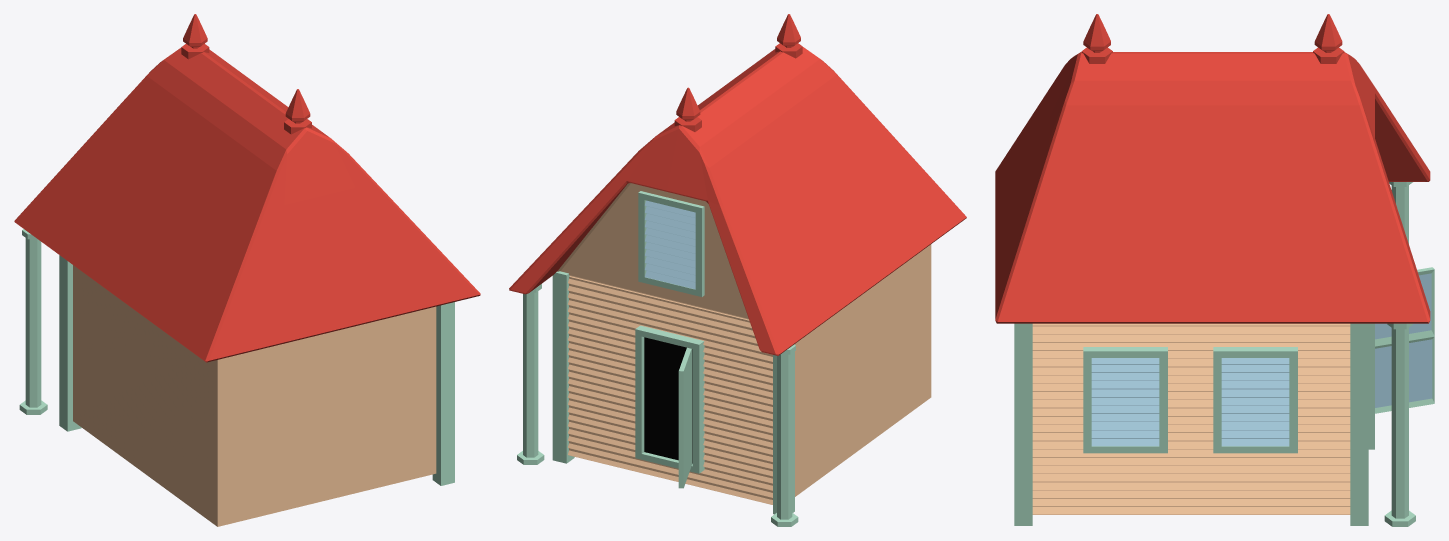
Rendered from house.fbx.
3 views of the same model, side by side, from view 1: azimuth 30°, elevation 25°; view 2: azimuth 150°, elevation 25°; view 3: azimuth 270°, elevation 25° (orthographic). The views are drawn at different scales.
Parts seen in each view (by area): view 1: Cube.001, Cube, Cube.008, Cylinder.001, Cube.009, Cylinder.002, Cylinder.003; view 2: Cube.001, Cube, Cube.005, Cube.010, Cube.003, Cube.007, Cylinder.001, Cylinder, Cube.002, Cube.006, Cube.009, Cylinder.002 (+1 smaller); view 3: Cube.001, Cube.004, Cube.012, Cube.014, Cube.006, Cube.007, Cube.008, Cylinder, Cube.011, Cube.013, Cylinder.002, Cylinder.003 (+2 smaller).
Part boxes in pixels (left/top/right/bottom): Cube.001: left=14, top=48, right=480, bottom=362; Cube: left=73, top=265, right=436, bottom=526; Cube.008: left=432, top=302, right=454, bottom=485; Cylinder.001: left=19, top=229, right=47, bottom=414; Cube.009: left=59, top=255, right=81, bottom=431; Cylinder.002: left=181, top=14, right=209, bottom=59; Cylinder.003: left=284, top=89, right=311, bottom=134; Cube.001: left=509, top=47, right=966, bottom=355; Cube: left=569, top=244, right=931, bottom=499; Cube.005: left=568, top=276, right=772, bottom=504; Cube.010: left=635, top=325, right=704, bottom=473; Cube.003: left=644, top=200, right=695, bottom=289; Cube.007: left=552, top=271, right=574, bottom=463; Cylinder.001: left=771, top=344, right=798, bottom=526; Cylinder: left=517, top=284, right=544, bottom=464; Cube.002: left=638, top=191, right=704, bottom=296; Cube.006: left=678, top=347, right=692, bottom=488; Cube.009: left=773, top=344, right=794, bottom=514; Cylinder.002: left=674, top=87, right=701, bottom=131; Cube.001: left=995, top=52, right=1430, bottom=323; Cube.004: left=1032, top=323, right=1350, bottom=514; Cube.012: left=1221, top=358, right=1289, bottom=446; Cube.014: left=1091, top=358, right=1159, bottom=446; Cube.006: left=1375, top=267, right=1434, bottom=413; Cube.007: left=1350, top=323, right=1368, bottom=525; Cube.008: left=1014, top=323, right=1032, bottom=525; Cylinder: left=1384, top=323, right=1415, bottom=526; Cube.011: left=1213, top=347, right=1297, bottom=453; Cube.013: left=1083, top=347, right=1167, bottom=453; Cylinder.002: left=1313, top=14, right=1344, bottom=63; Cylinder.003: left=1081, top=14, right=1112, bottom=63.
Bounding box in the file's own units: 869 × 1174 × 1050.
